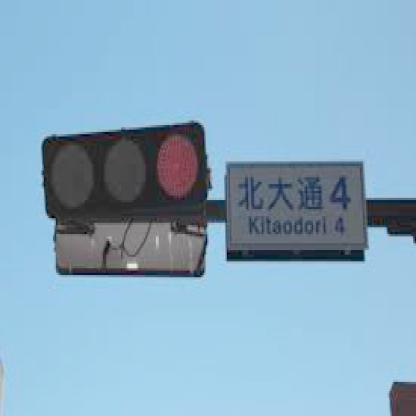traffic-light: (38, 125, 216, 209)
